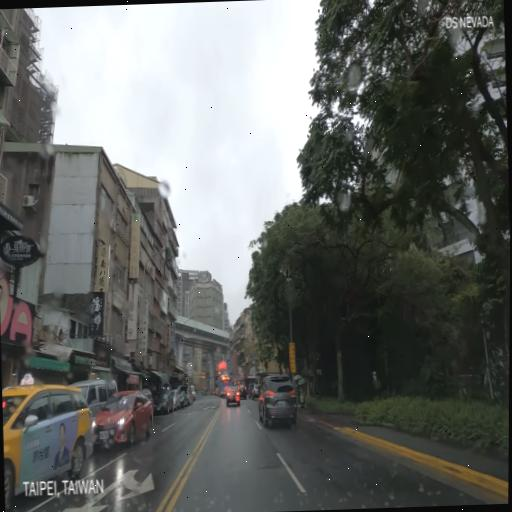Car: (1, 384, 98, 506), (47, 372, 126, 448), (85, 382, 156, 456), (254, 366, 301, 430), (152, 384, 175, 418), (220, 381, 244, 412)
